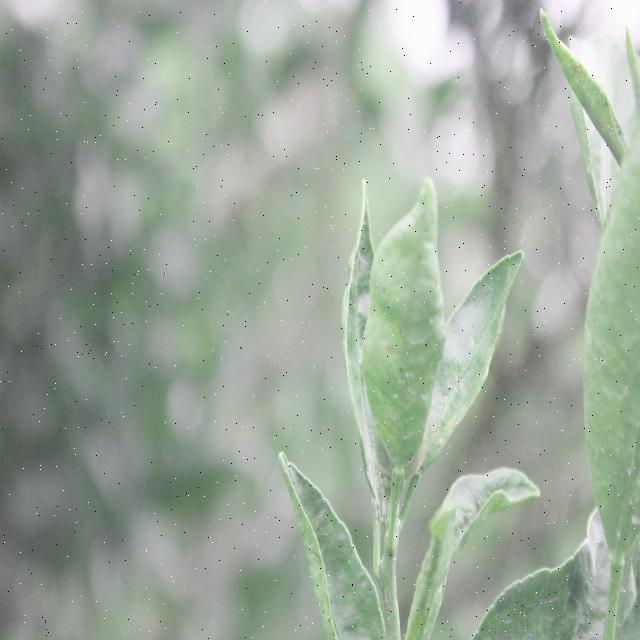canker: (376, 200, 443, 437)
